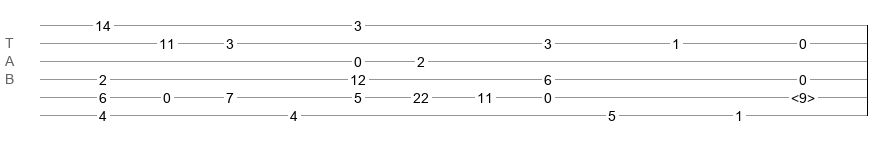0: (163, 90, 171, 100), (354, 54, 362, 64), (544, 90, 552, 100), (799, 36, 807, 46), (799, 72, 807, 82)
1: (672, 36, 680, 46), (735, 108, 743, 118)
11: (159, 36, 175, 46), (477, 90, 493, 100)
12: (350, 72, 366, 82)
14: (95, 18, 111, 28)
2: (99, 72, 107, 82), (417, 54, 425, 64)
22: (413, 90, 429, 100)
3: (226, 36, 234, 46), (354, 18, 362, 28), (544, 36, 552, 46)
4: (99, 108, 107, 118), (290, 108, 298, 118)
5: (354, 90, 362, 100), (608, 108, 616, 118)
6: (99, 90, 107, 100), (544, 72, 552, 82)
7: (226, 90, 234, 100)
harmonic: (791, 90, 815, 100)
